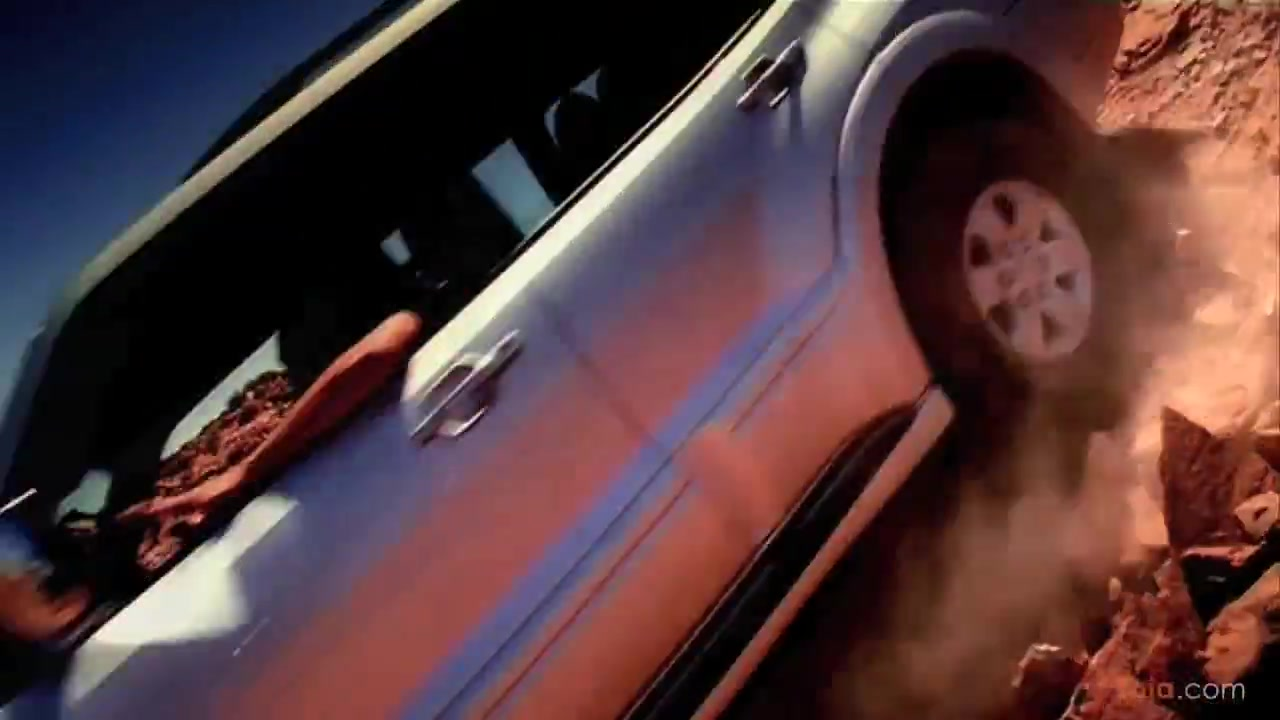car: (1, 2, 1152, 720)
